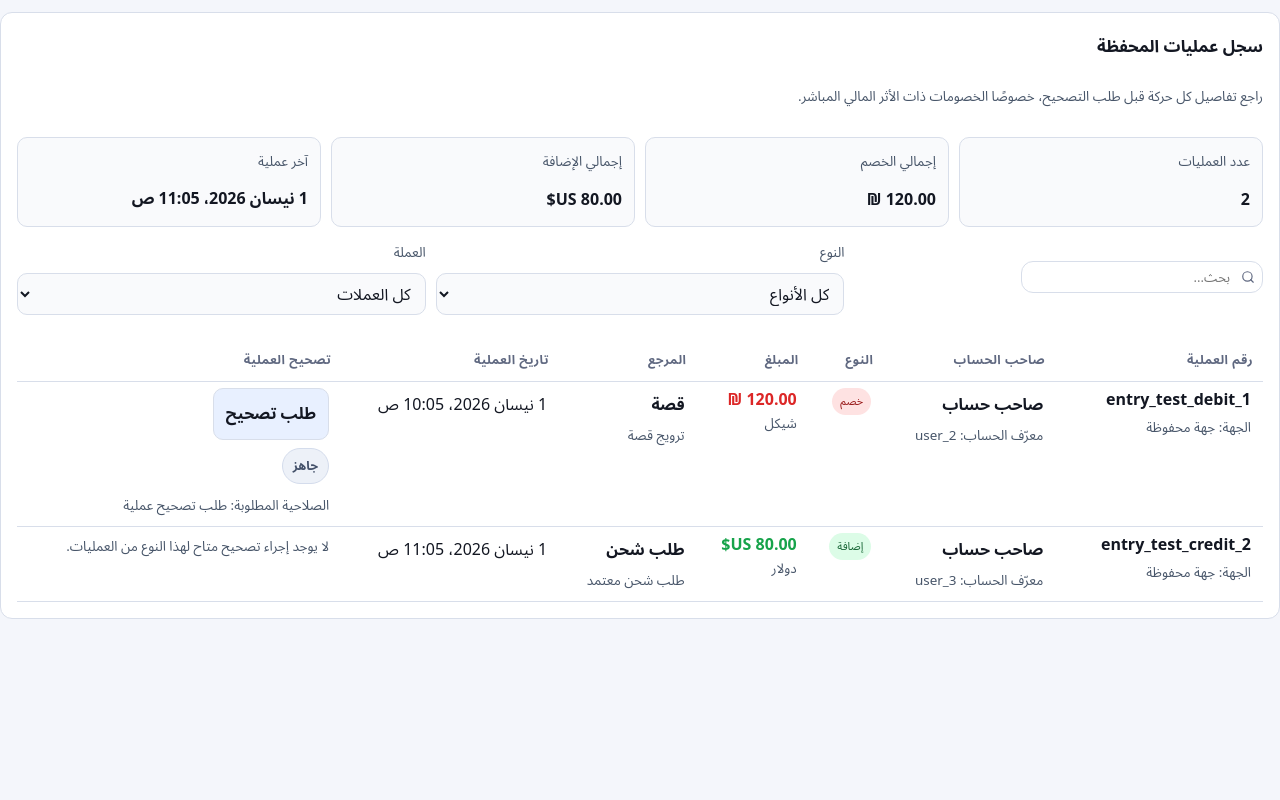
Scenario: finance command surfaces › filters wallet audit rows by search, type, and currency chips
The image size is (1280, 800).
Type "Credit" into the search field with placeholder "بحث..." at (1142, 277), box top-left (1021, 261), bottom-right (1263, 293)
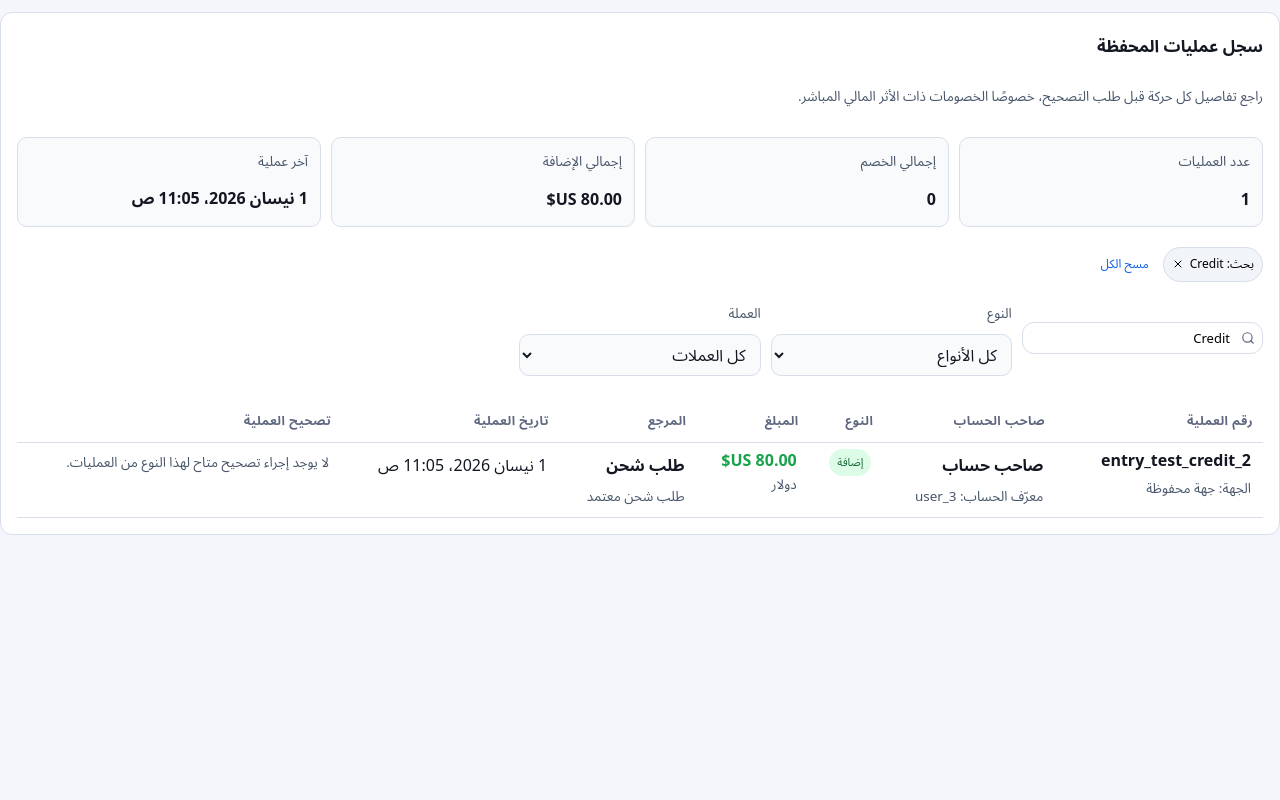
Select "إضافة" in the dropdown named "تصفية حسب النوع" at (891, 355), box top-left (771, 334), bottom-right (1012, 376)
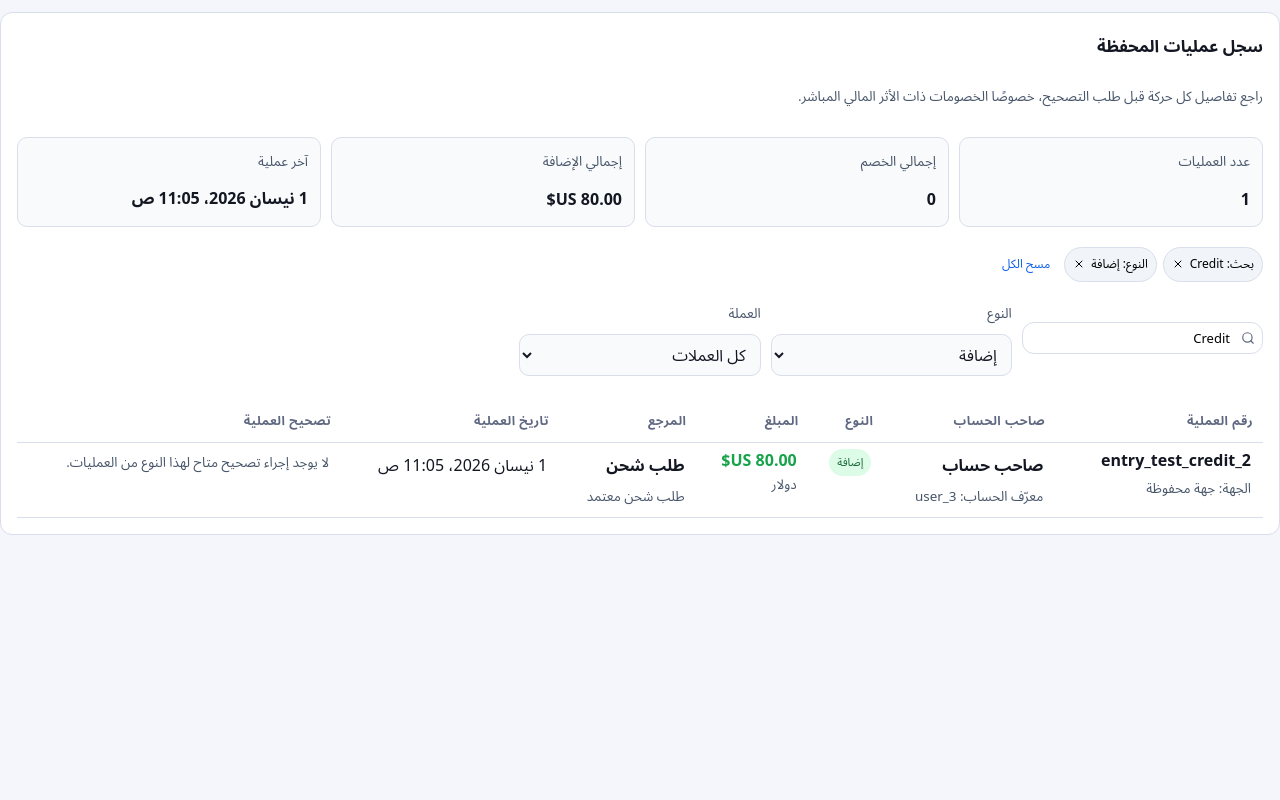
Select "دولار" in the dropdown named "تصفية حسب العملة" at (640, 355), box top-left (519, 334), bottom-right (761, 376)
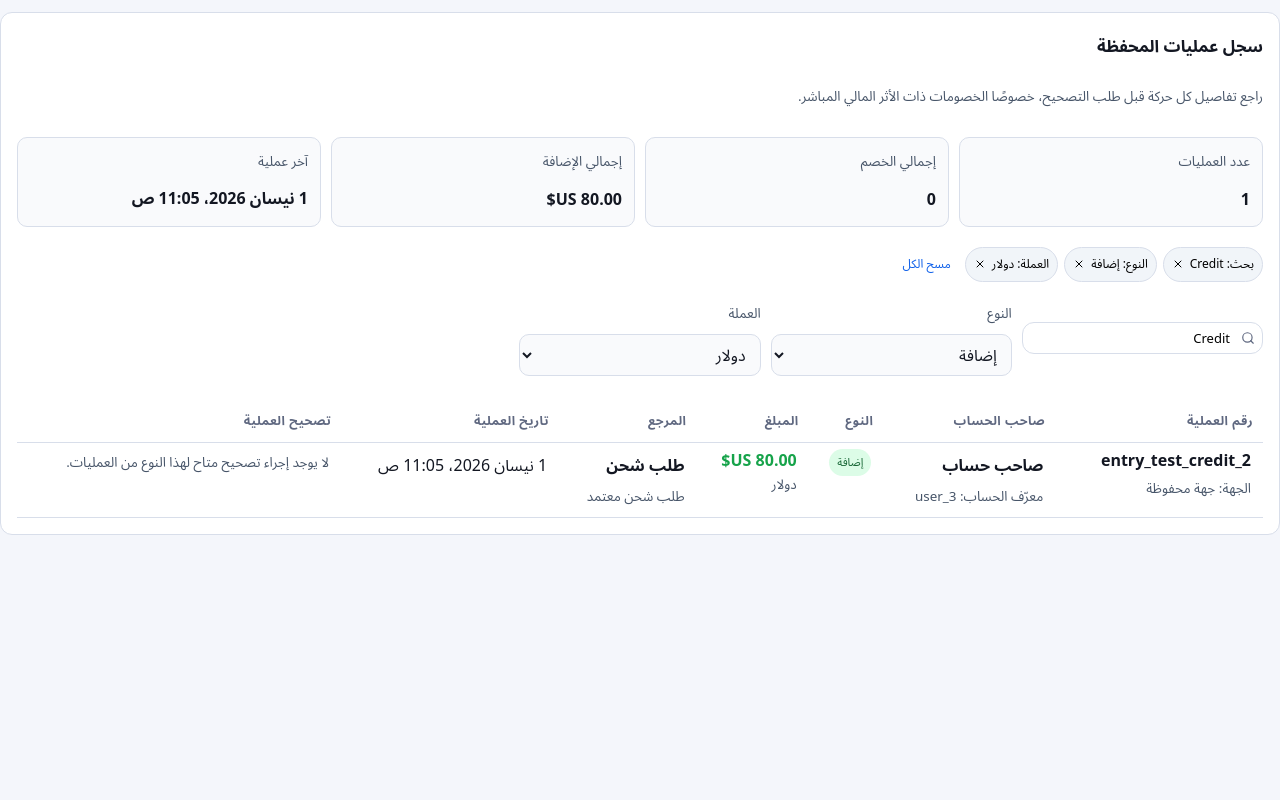
Expected: the text "entry_test_credit_2" is shown, top-left (1101, 449), bottom-right (1251, 471)
Result: the button with aria-label "إزالة النوع: إضافة" is shown at top-left (1064, 247), bottom-right (1157, 282)
Result: the button with aria-label "إزالة العملة: دولار" is shown at top-left (965, 247), bottom-right (1058, 282)
Click the button "مسح الكل" at (927, 264), box top-left (894, 248), bottom-right (959, 281)
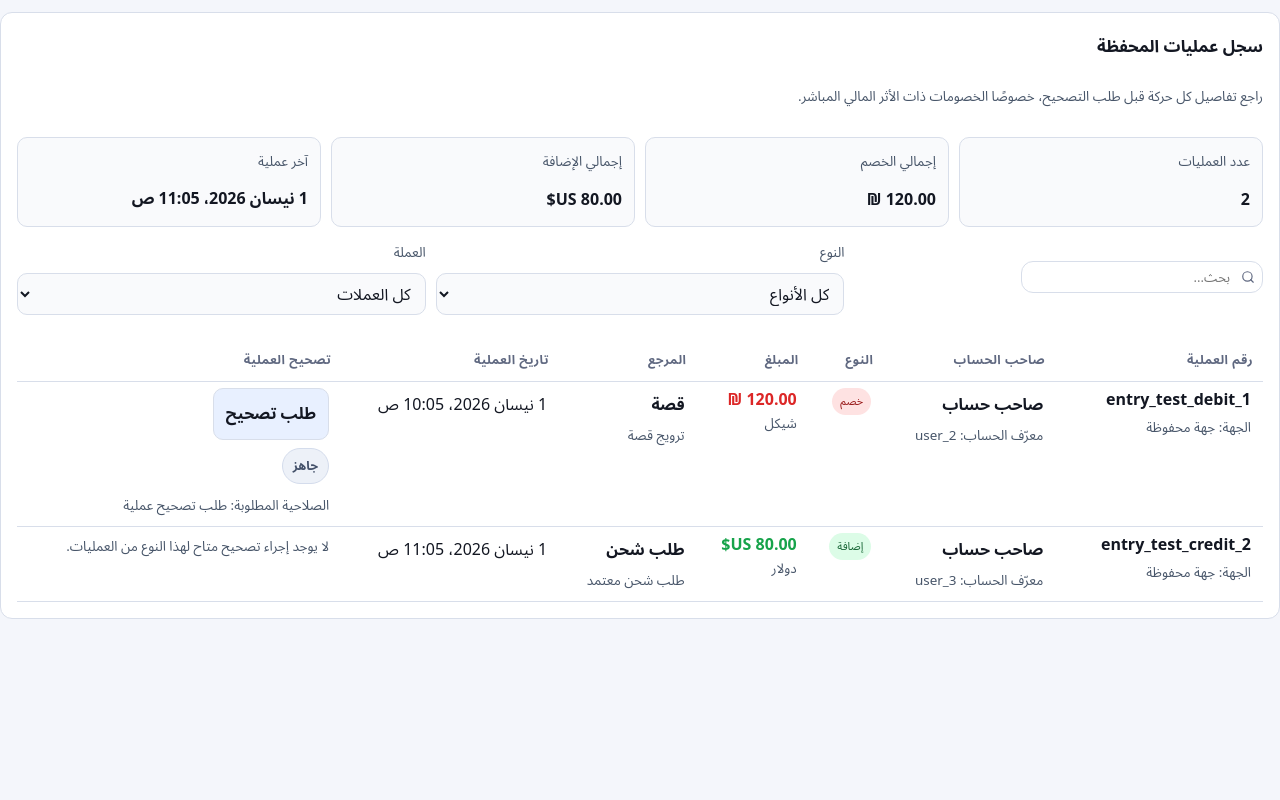
Result: the text "entry_test_debit_1" is shown at top-left (1106, 388), bottom-right (1251, 410)
